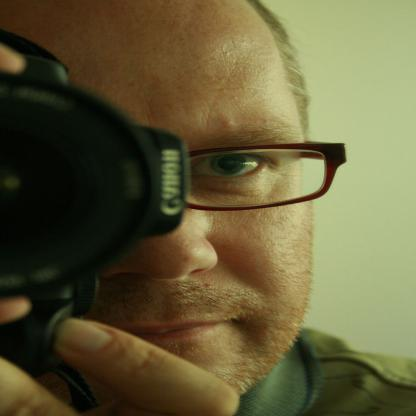Camera: (1, 54, 192, 376)
